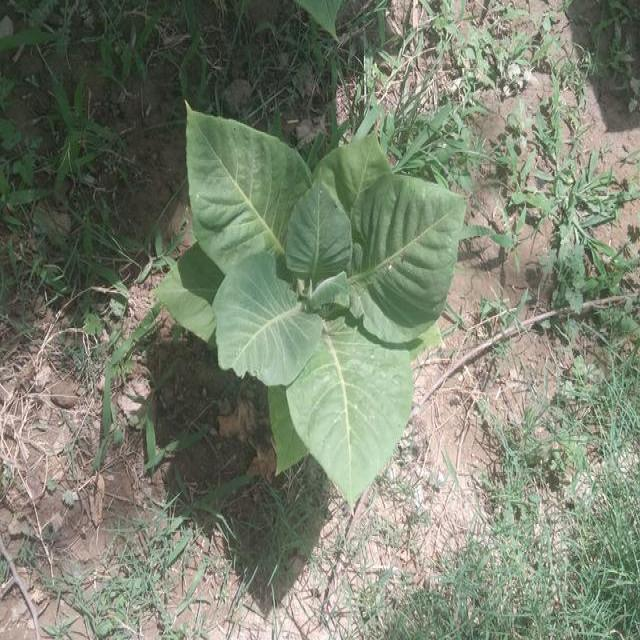crop: (152, 81, 478, 509)
